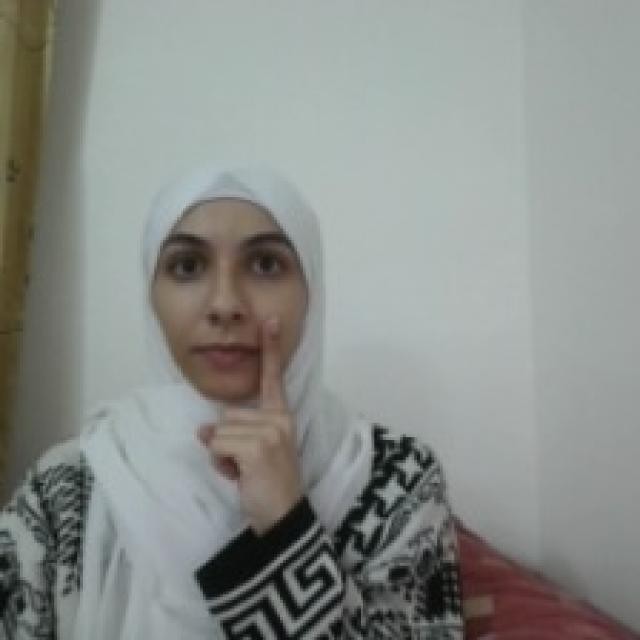mother: (191, 313, 301, 494)
